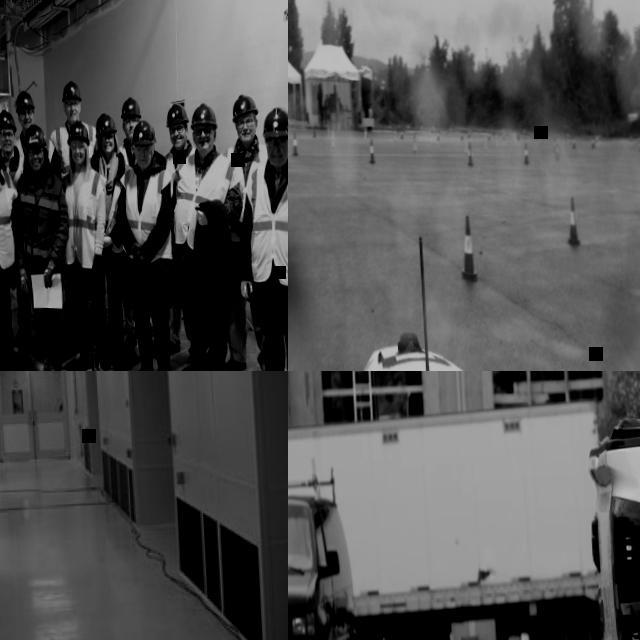helmet: (260, 103, 288, 137), (188, 99, 218, 129), (230, 90, 259, 120), (132, 118, 156, 146), (22, 122, 47, 148), (66, 120, 90, 146), (164, 101, 190, 125), (94, 110, 118, 134), (120, 95, 142, 118), (61, 79, 83, 101), (0, 107, 17, 133), (14, 89, 35, 110)
vest: (170, 148, 248, 252), (243, 150, 288, 287), (119, 162, 178, 266), (218, 138, 272, 242), (62, 166, 112, 271), (16, 170, 69, 266), (102, 160, 136, 254), (48, 118, 98, 175), (0, 161, 22, 272), (164, 143, 198, 194), (15, 130, 57, 166), (0, 144, 25, 185), (119, 143, 138, 167)
